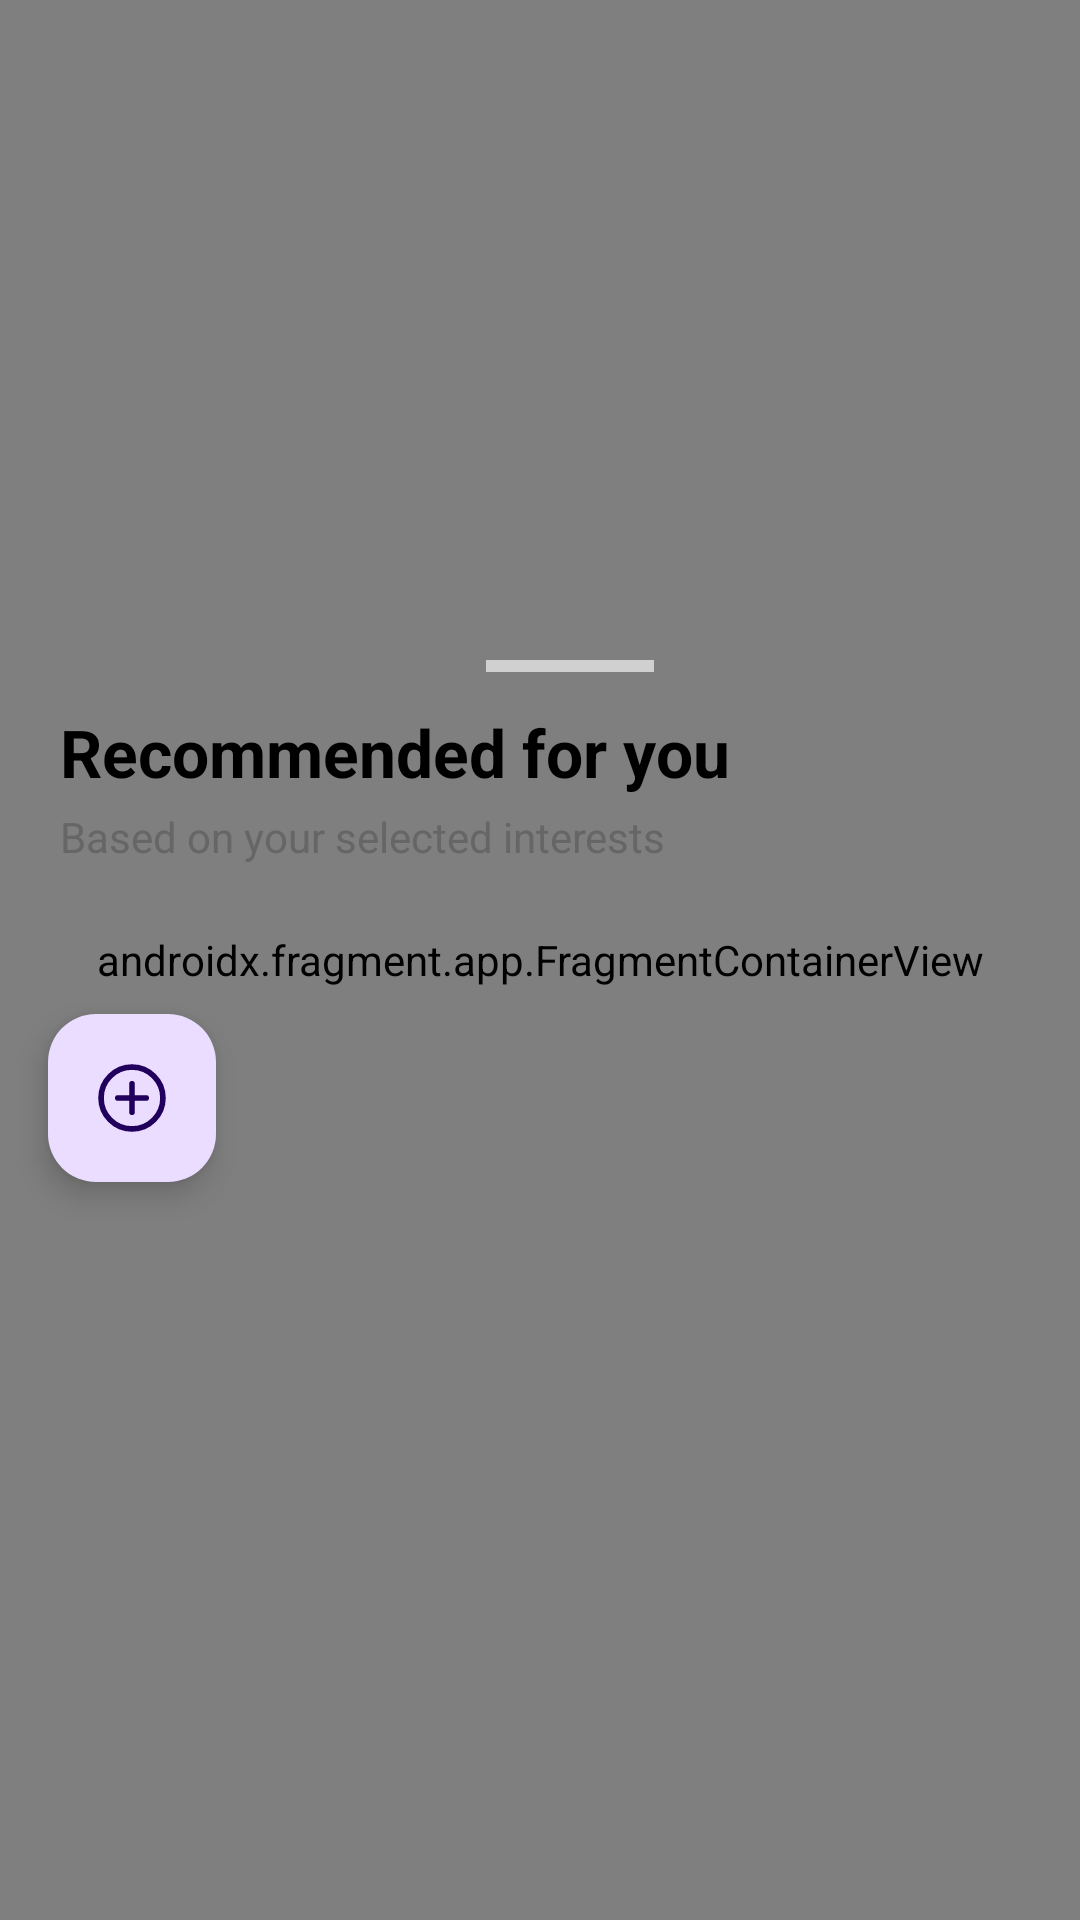

Screen size 1080px x 1920px. Icon name, then its center in pixels as (x,y):
add: (132,1098)
